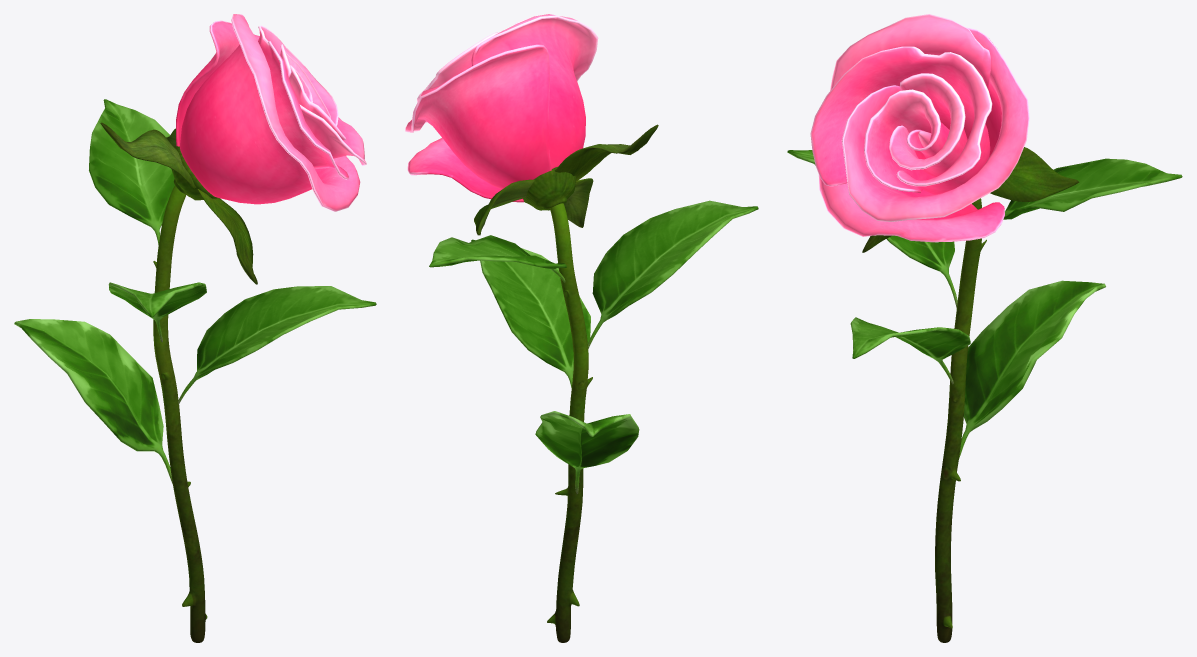
The model's file is flower.gltf.
3 renders of one model, left to right at view 1: azimuth 30°, elevation 25°; view 2: azimuth 150°, elevation 25°; view 3: azimuth 270°, elevation 25°, orthographic. The views are drawn at different scales.
Visible parts, largest first — view 1: Rose; view 2: Rose; view 3: Rose.
Boxes of the visible parts, x1,y1,x2,y2 form: Rose: (14, 14, 376, 642); Rose: (405, 14, 758, 642); Rose: (787, 14, 1182, 642).
Bounding box in the file's own units: 0.237 × 0.5116 × 0.2856.
Materials: 1 (1 with a texture image).
